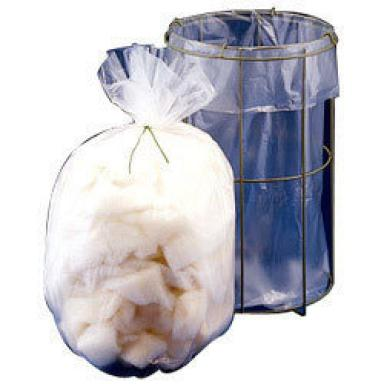plasticbag: (40, 8, 336, 376), (45, 42, 237, 376)
